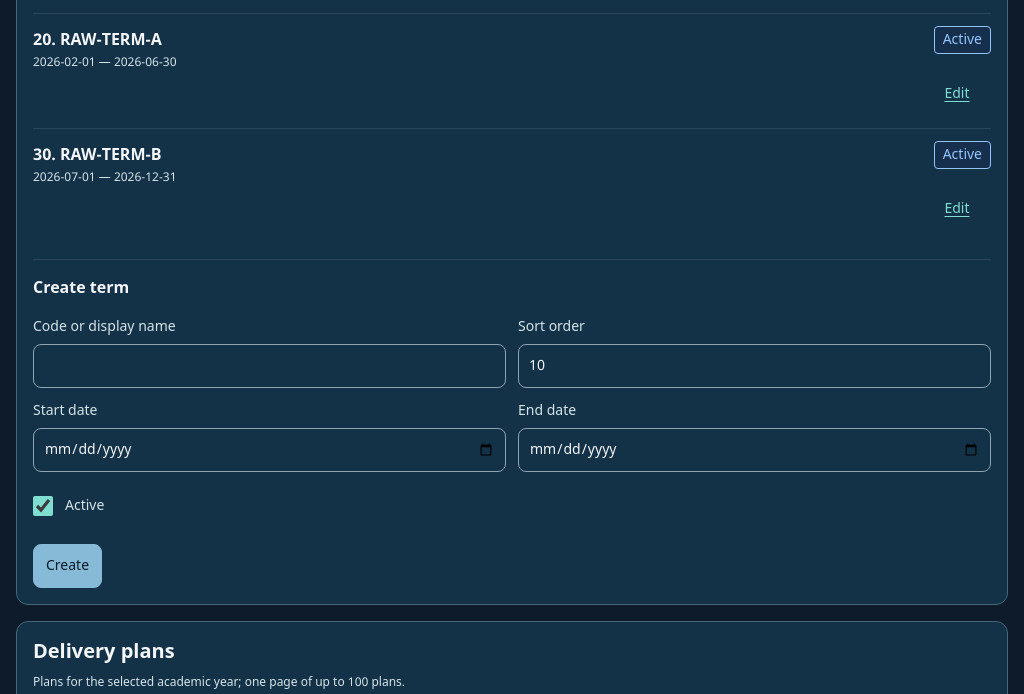
Test case: Delivery Planning component en › POST term exact current year/raw fields and resets after success
(page scrolled)
In the field labelled "Code or display name": (270, 366) [33,344,506,388], type " RAW term "
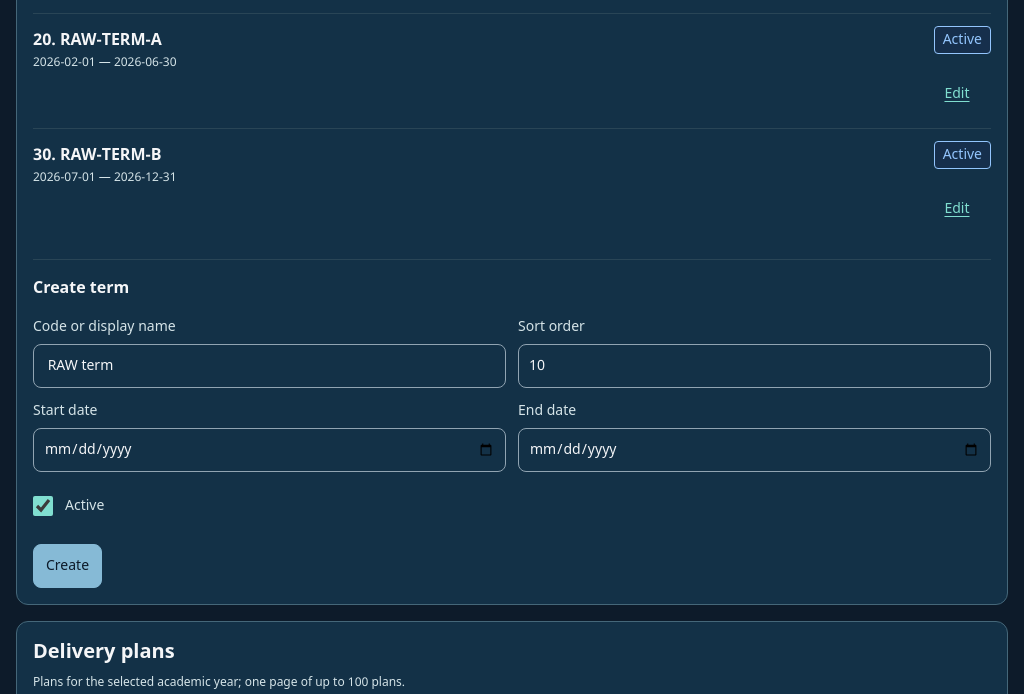
In the date field labelled "Start date": (270, 450) [33,428,506,472], type "2026-01-01"
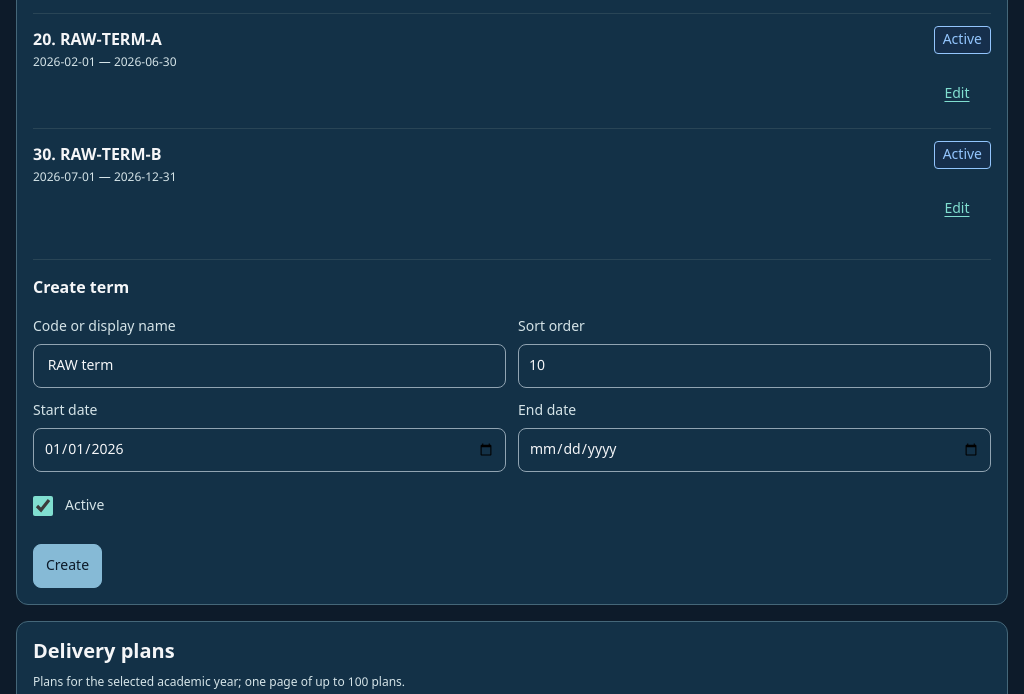
In the date field labelled "End date": (754, 450) [518,428,991,472], type "2026-01-31"
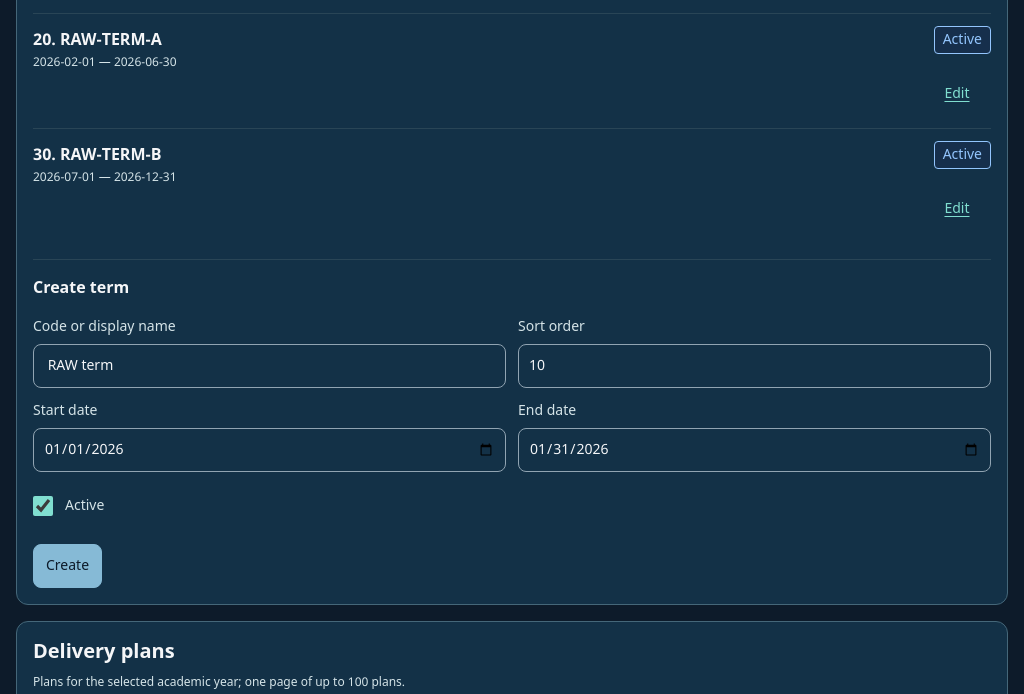
Replace the text in the number field labelled "Sort order" with "73": (754, 366) [518,344,991,388]
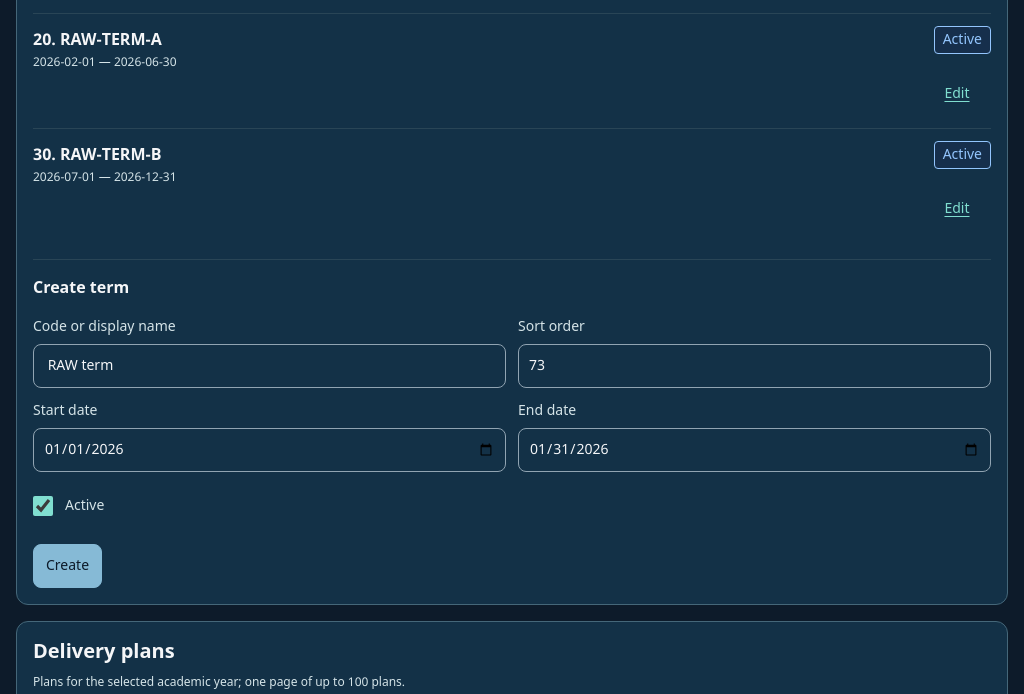
Click the checkbox labelled "Active": (43, 506) [33,496,53,516]
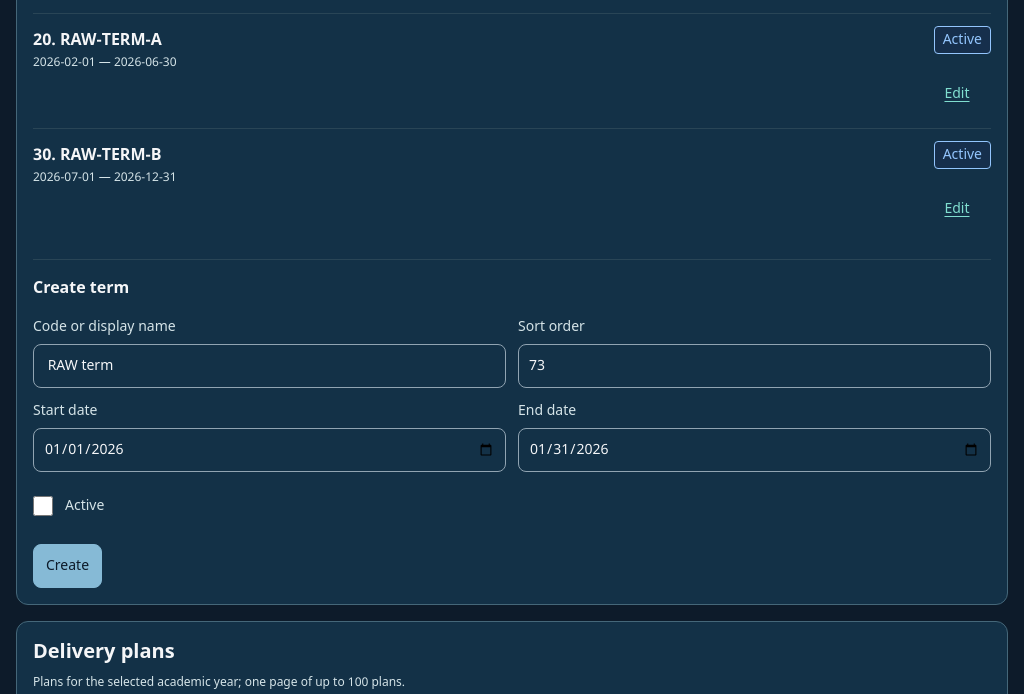
Click the button "Create": (68, 566) [33,544,102,588]
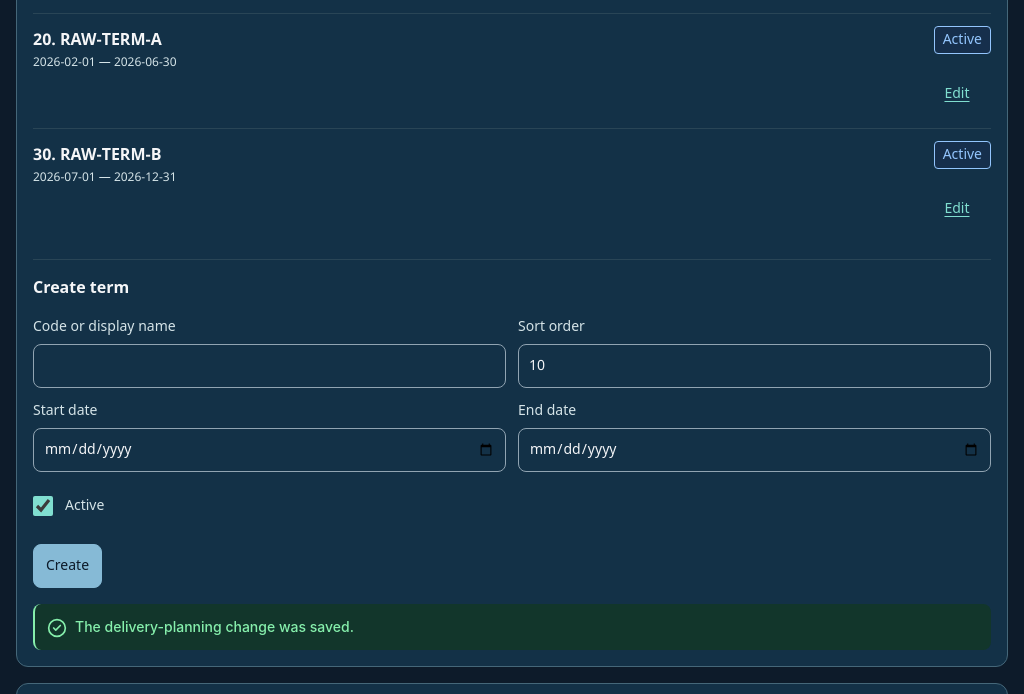
Expected: the message reads "The delivery-planning change was saved.", [75,618,354,635]
Expected: the field labelled "Code or display name" is empty, [33,344,506,388]
